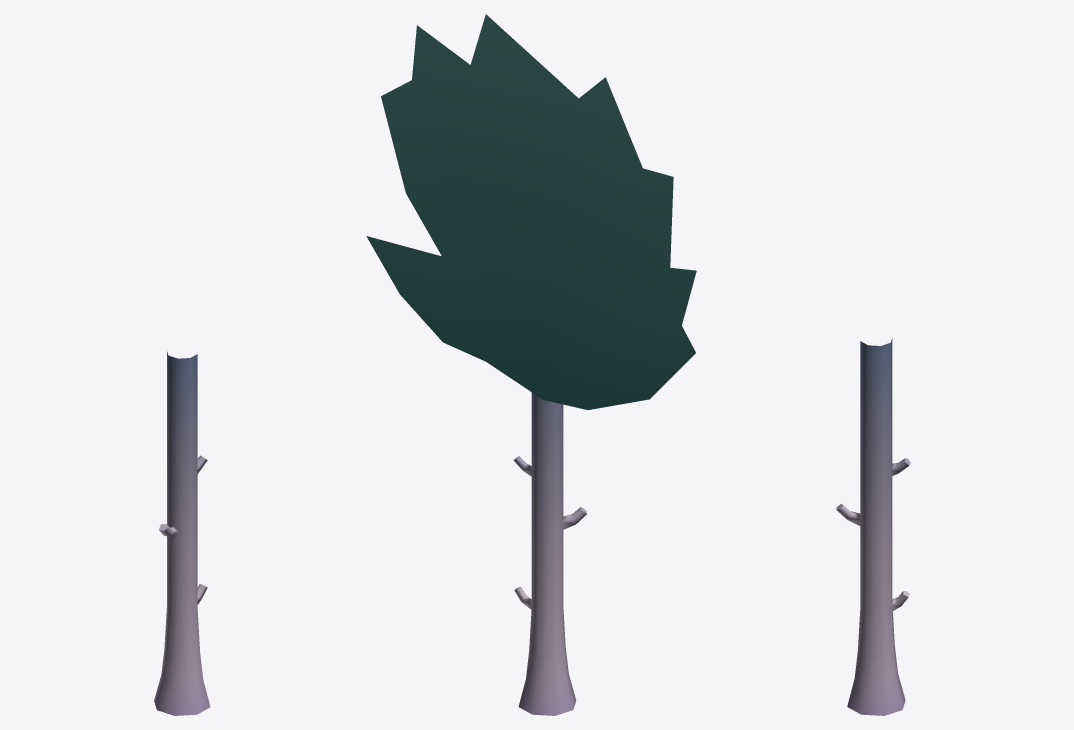
The model's file is prop_tall-tree_01.glb.
3 renders of one model, left to right at view 1: azimuth 30°, elevation 25°; view 2: azimuth 150°, elevation 25°; view 3: azimuth 330°, elevation 25°, orthographic. The views are drawn at different scales.
Visible parts, largest first — view 1: prop_tall-tree_01; view 2: prop_tall-tree_01; view 3: prop_tall-tree_01.
Part boxes in pixels (x1,y1,x2,y2): prop_tall-tree_01: (154, 351, 210, 715); prop_tall-tree_01: (366, 14, 696, 715); prop_tall-tree_01: (836, 338, 910, 715).
Bounding box in the file's own units: 29.07 × 57.6 × 4.55.
